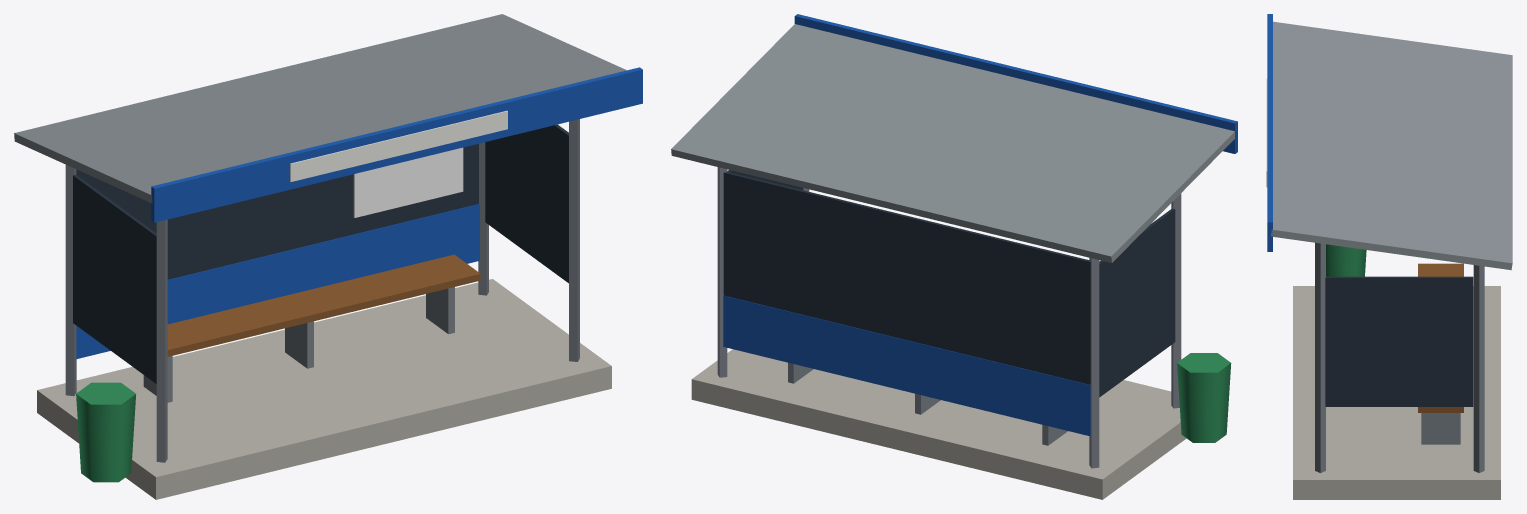
File: halte.glb
3 views of the same model, side by side, from view 1: azimuth 30°, elevation 25°; view 2: azimuth 150°, elevation 25°; view 3: azimuth 270°, elevation 25° (orthographic). The views are drawn at different scales.
Parts seen in each view (by area): view 1: body; view 2: body; view 3: body.
Boxes of the visible parts, <box> form: body: <box>14,14,642,499</box>; body: <box>671,14,1237,499</box>; body: <box>1266,14,1512,499</box>.
Bounding box in the file's own units: 4.76 × 2.87 × 2.25.
